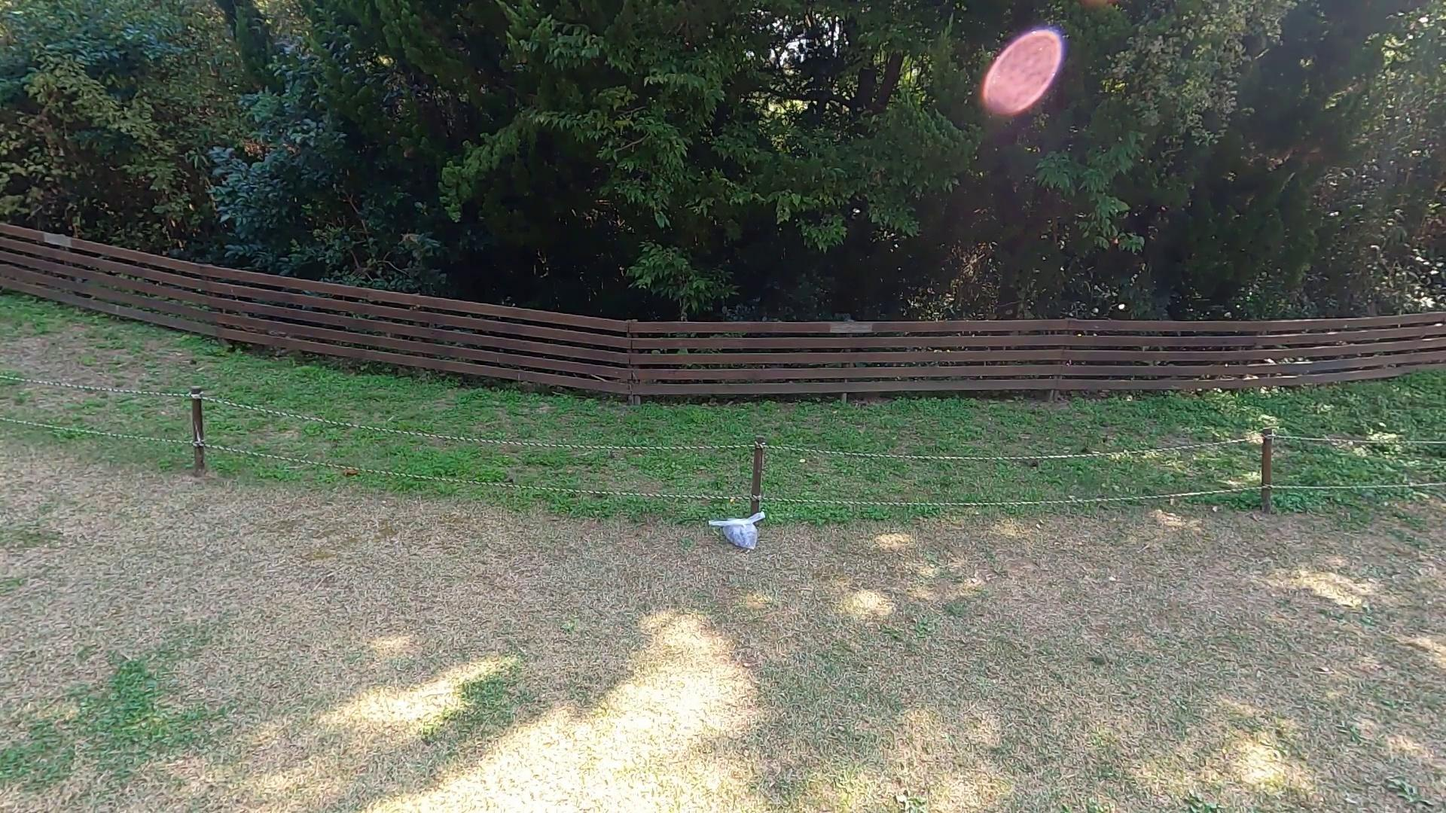trash: (705, 509, 769, 551)
